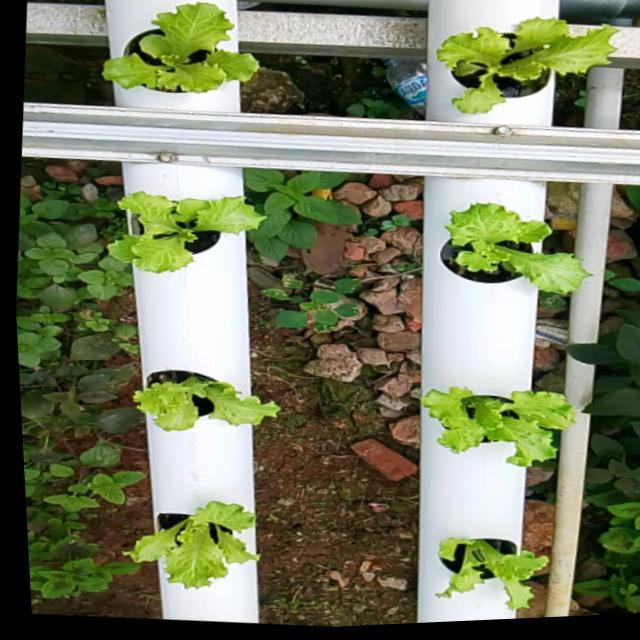Baby: (438, 20, 620, 116), (102, 1, 259, 110), (436, 199, 587, 290), (108, 191, 269, 273), (417, 384, 572, 463), (121, 497, 256, 584), (129, 366, 277, 428), (433, 533, 545, 604)
